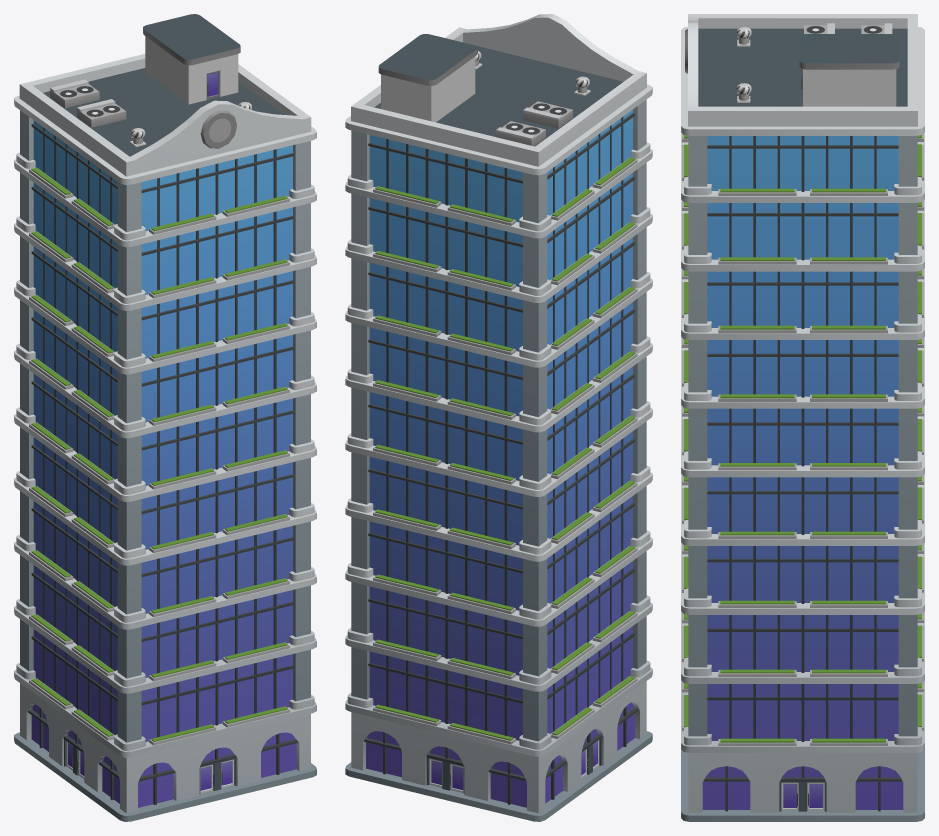
The model's file is elite_residental_building_007.glb.
The picture shows the model from 3 angles, left to right: view 1: azimuth 30°, elevation 25°; view 2: azimuth 150°, elevation 25°; view 3: azimuth 270°, elevation 25°; orthographic projection. The views are drawn at different scales.
Visible parts, largest first — view 1: elite_residental_building_007; view 2: elite_residental_building_007; view 3: elite_residental_building_007.
Part boxes in pixels (x1=…): elite_residental_building_007: x1=14, y1=14, x2=316, y2=821; elite_residental_building_007: x1=345, y1=14, x2=652, y2=821; elite_residental_building_007: x1=681, y1=14, x2=924, y2=821.
Size of the model in its own units: 16.78 by 56.76 by 16.78.
2 materials, 2 textured.
